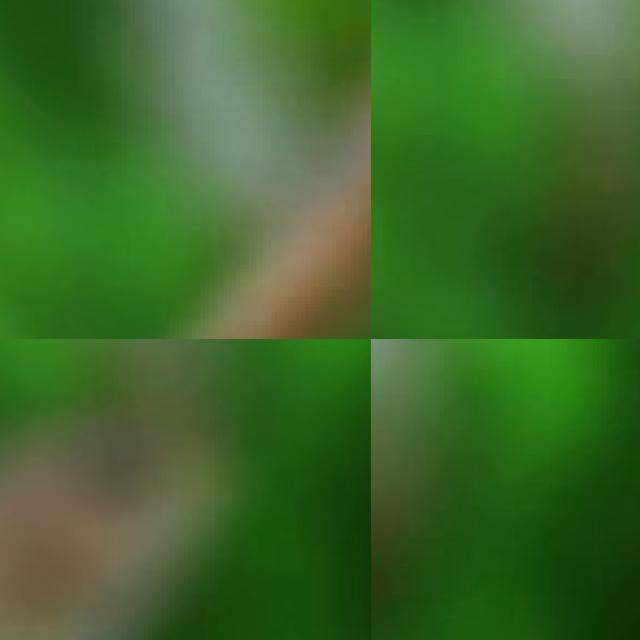fish: (0, 0, 371, 339), (0, 355, 284, 640)
